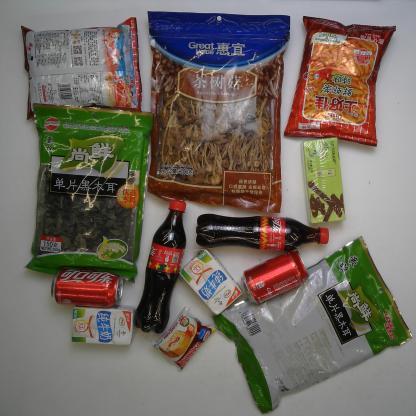Dessert: (149, 308, 216, 369)
Dried Food: (212, 236, 413, 413), (146, 7, 291, 214), (22, 100, 155, 283)
Drink: (132, 199, 187, 334), (194, 213, 330, 251), (240, 250, 310, 302), (50, 268, 124, 310)
Instant Drink: (300, 138, 348, 224)
Milk: (180, 248, 242, 317), (68, 305, 134, 348)
Puffed Food: (282, 14, 398, 147), (20, 16, 143, 120)
